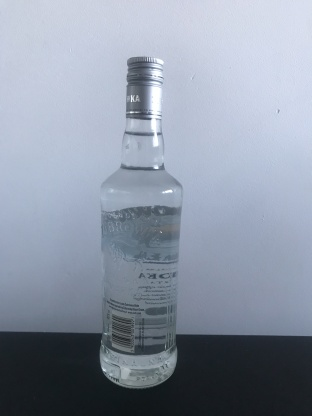nakretka: (124, 53, 165, 121)
